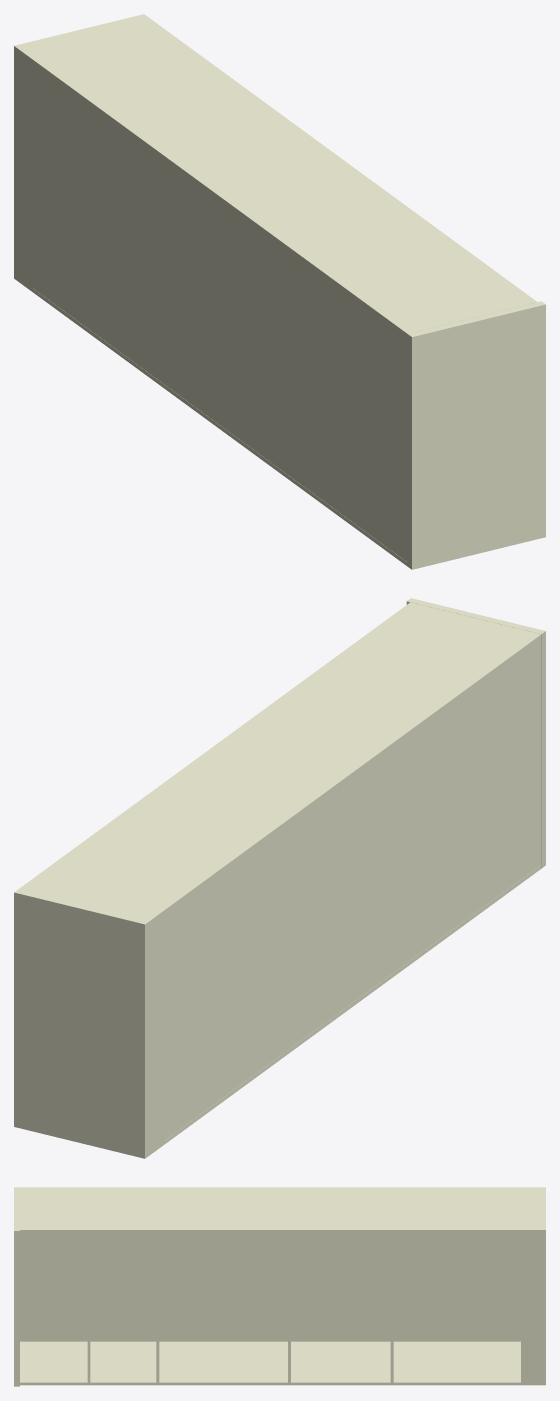
3 renders of one model, top to bottom at view 1: azimuth 30°, elevation 25°; view 2: azimuth 150°, elevation 25°; view 3: azimuth 270°, elevation 25°, orthographic. The views are drawn at different scales.
Parts seen in each view (by area): view 1: ROOT_link (×5); view 2: ROOT_link (×5); view 3: ROOT_link (×9).
Boxes of the visible parts, x1,y1,x2,y2 form: ROOT_link (×5): (14, 14, 545, 569); ROOT_link (×5): (14, 598, 545, 1158); ROOT_link (×9): (14, 1187, 545, 1386).
Size of the model in its own units: 0.353 by 0.586 by 1.82.
